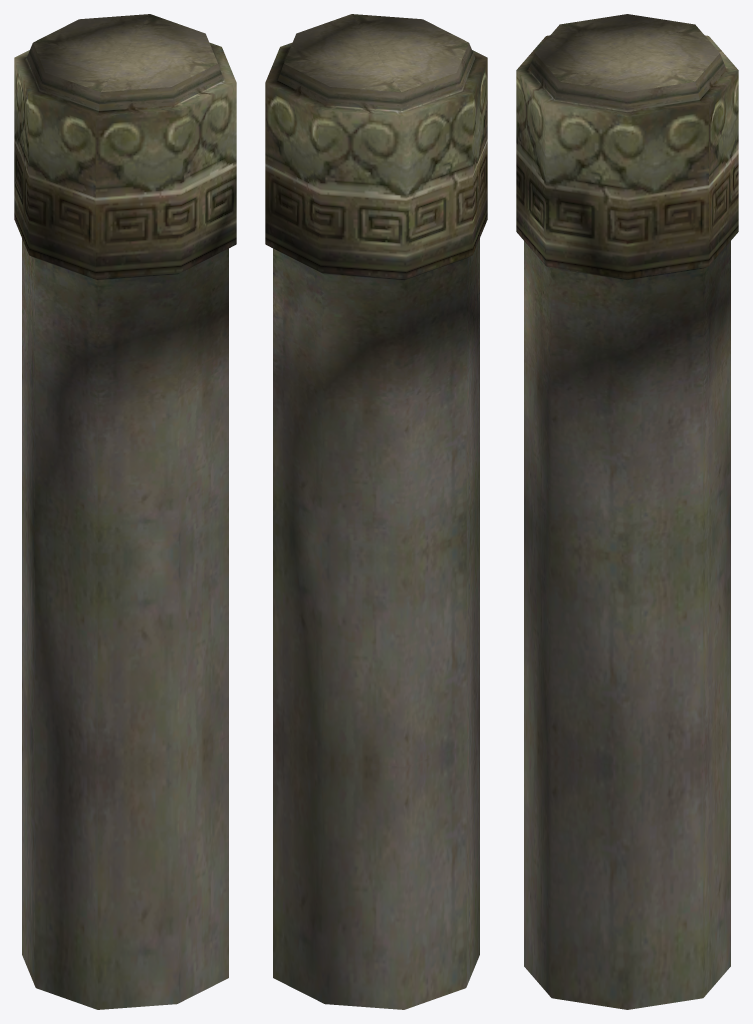
The model's file is THL1_7.fbx.
3 renders of one model, left to right at view 1: azimuth 30°, elevation 25°; view 2: azimuth 150°, elevation 25°; view 3: azimuth 270°, elevation 25°, orthographic.
Parts seen in each view (by area): view 1: taohualin:polySurface42; view 2: taohualin:polySurface42; view 3: taohualin:polySurface42.
Part boxes in pixels (left/top/right/bottom): taohualin:polySurface42: left=14, top=14, right=236, bottom=1009; taohualin:polySurface42: left=265, top=14, right=487, bottom=1009; taohualin:polySurface42: left=516, top=14, right=738, bottom=1009.
Bounding box in the file's own units: 2.49 × 11.27 × 2.49.
